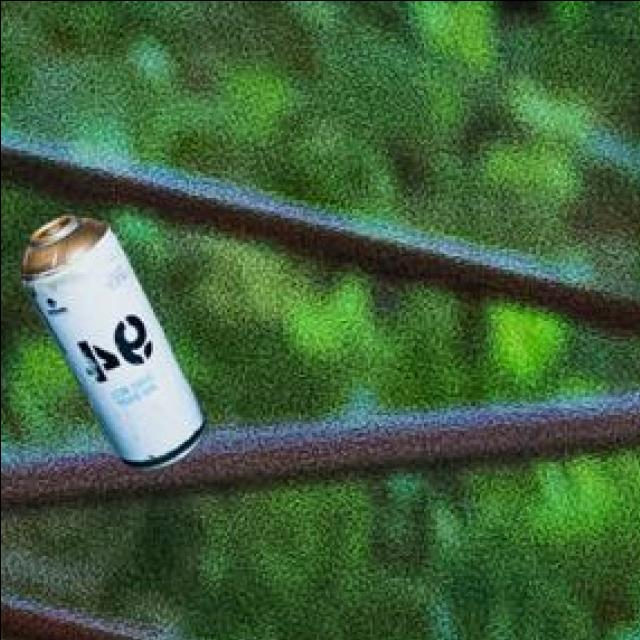logam: (15, 218, 198, 473)
